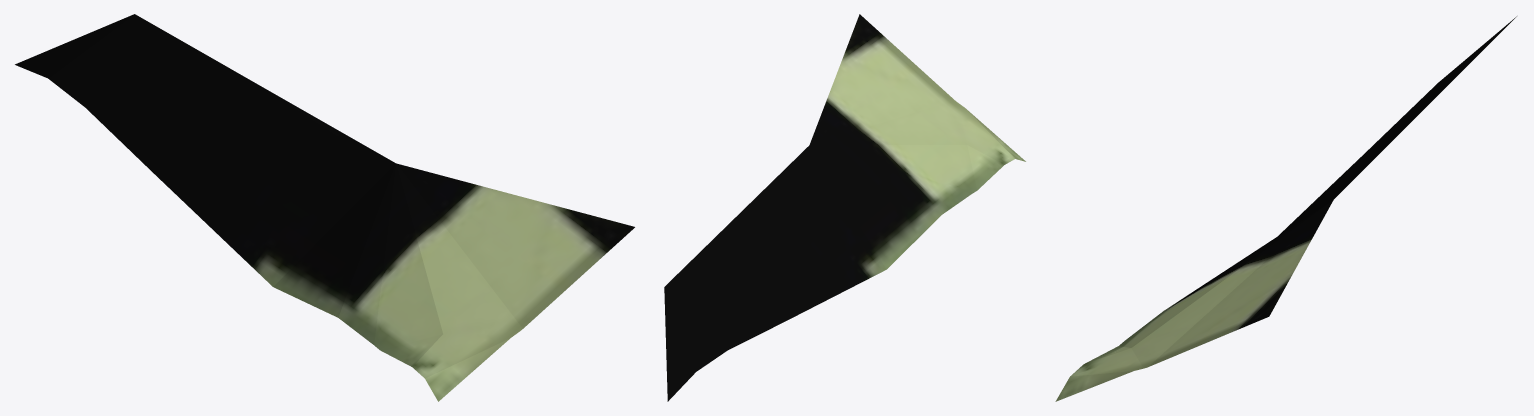
The picture shows the model from 3 angles, left to right: view 1: azimuth 30°, elevation 25°; view 2: azimuth 150°, elevation 25°; view 3: azimuth 330°, elevation 25°; orthographic projection. The views are drawn at different scales.
Bounding box in the file's own units: 7.48 × 4.81 × 27.85.
Materials: 1 (1 with a texture image).
